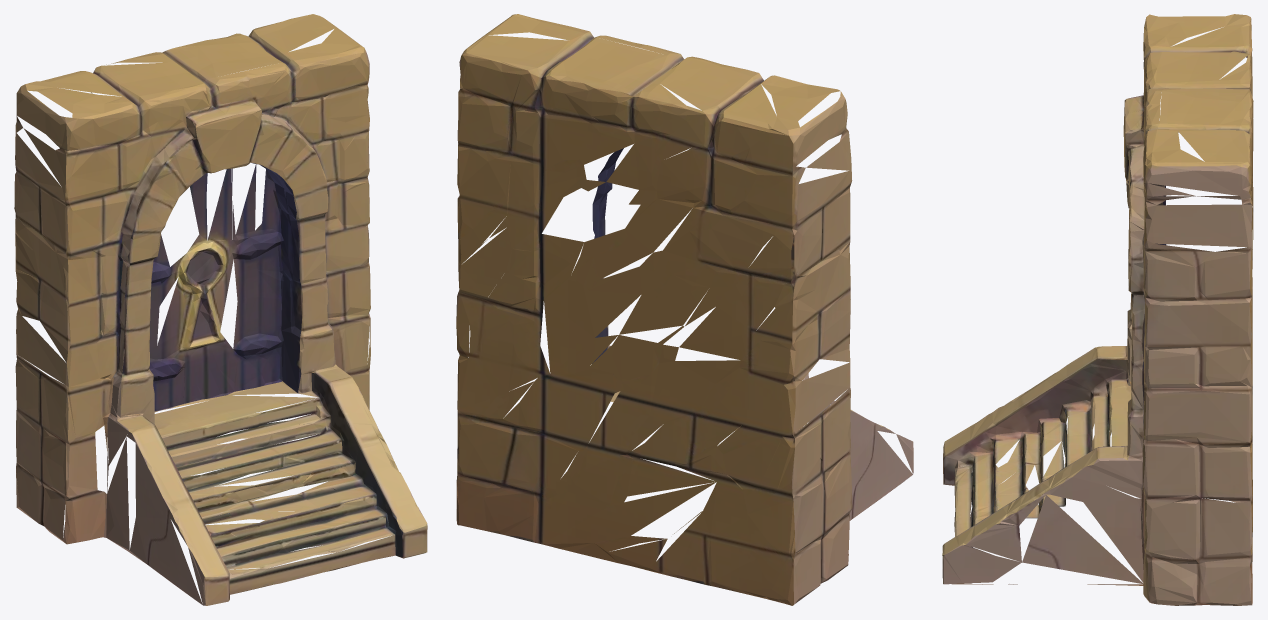
File: tower_door.glb
3 renders of one model, left to right at view 1: azimuth 30°, elevation 25°; view 2: azimuth 150°, elevation 25°; view 3: azimuth 270°, elevation 25°, orthographic. The views are drawn at different scales.
Parts seen in each view (by area): view 1: geometry_0; view 2: geometry_0; view 3: geometry_0.
Part boxes in pixels (x1,y1,x2,y2): geometry_0: (14,14,427,605); geometry_0: (456,14,913,605); geometry_0: (942,14,1253,605).
Size of the model in its own units: 1.14 by 1.51 by 0.9646.
Materials: 1 (1 with a texture image).
